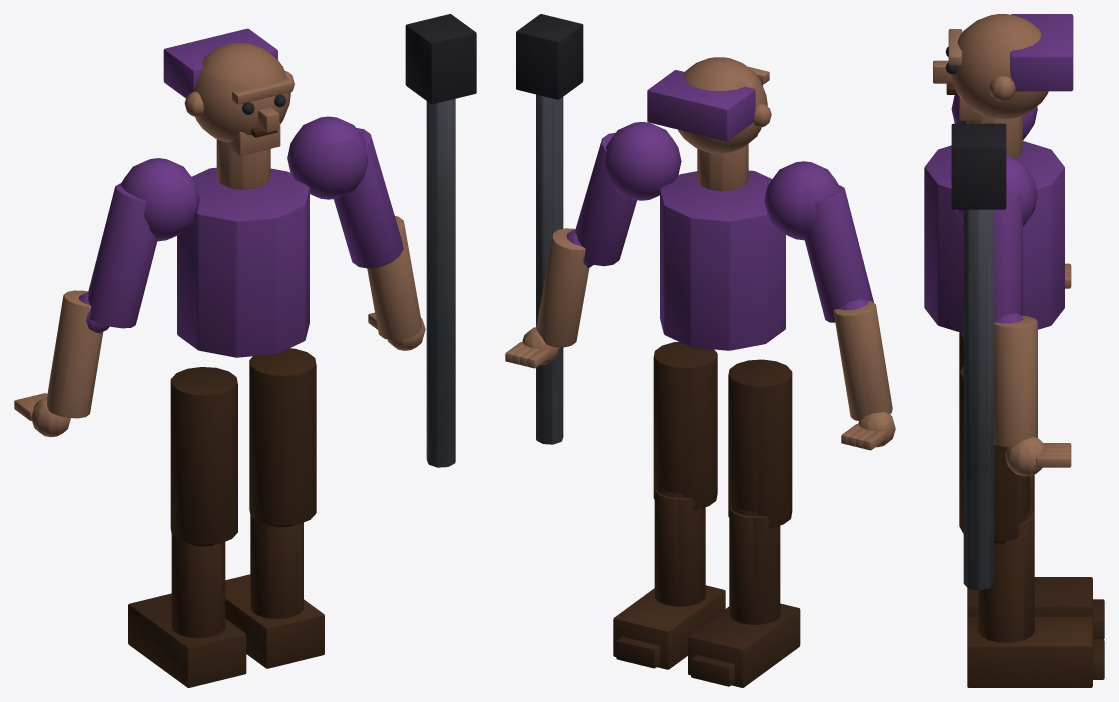
File: unit_veiled_massed.fbx
3 views of the same model, side by side, from view 1: azimuth 30°, elevation 25°; view 2: azimuth 150°, elevation 25°; view 3: azimuth 270°, elevation 25° (orthographic). The views are drawn at different scales.
Parts seen in each view (by area): view 1: unit_veiled_massed; view 2: unit_veiled_massed; view 3: unit_veiled_massed.
Boxes of the visible parts, x1,y1,x2,y2 form: unit_veiled_massed: (14, 14, 476, 687); unit_veiled_massed: (505, 14, 895, 687); unit_veiled_massed: (924, 14, 1104, 687).
Bounding box in the file's own units: 1.24 × 1.78 × 0.4592.
